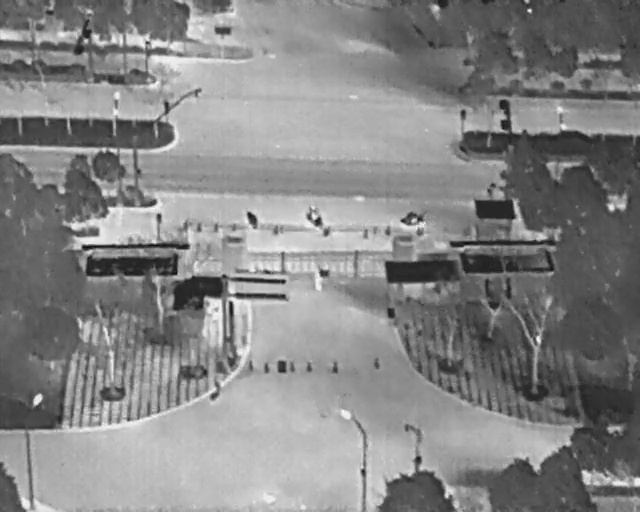Bicycle: (298, 200, 330, 234), (399, 210, 425, 226)
Person: (314, 271, 323, 292)
